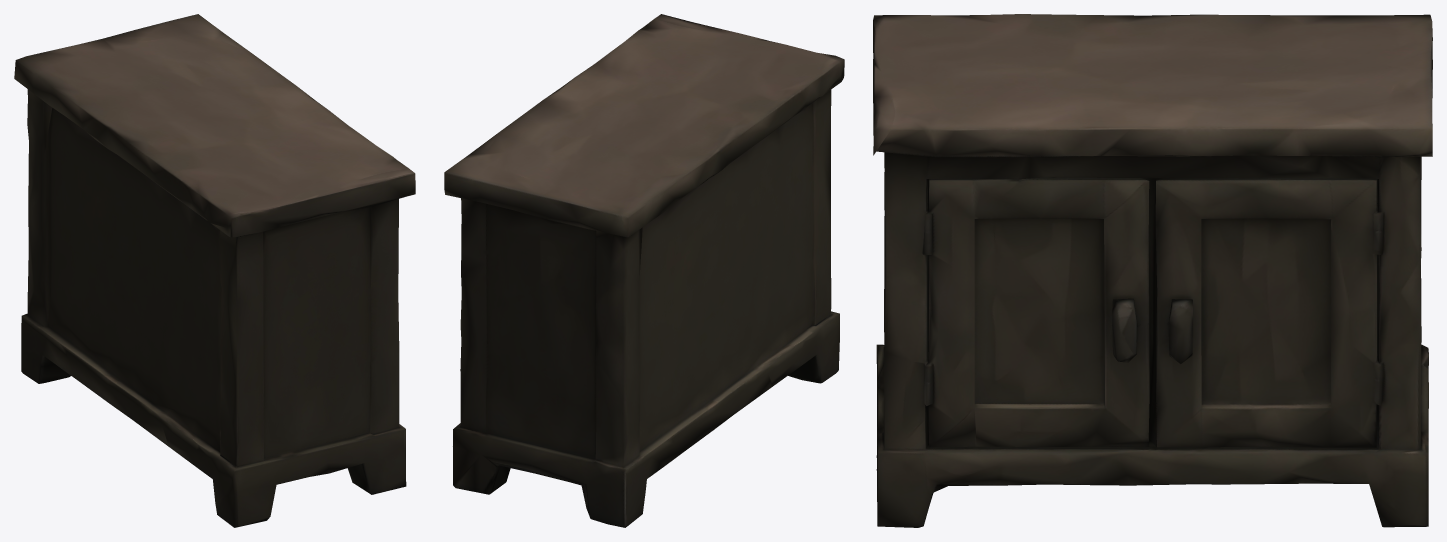
File: wooden_cabinet_small.glb
The picture shows the model from 3 angles, left to right: view 1: azimuth 30°, elevation 25°; view 2: azimuth 150°, elevation 25°; view 3: azimuth 270°, elevation 25°; orthographic projection. The views are drawn at different scales.
Parts seen in each view (by area): view 1: tripo_node_ceaee5fb-e24a-4fda-a32a-5de418f4119b; view 2: tripo_node_ceaee5fb-e24a-4fda-a32a-5de418f4119b; view 3: tripo_node_ceaee5fb-e24a-4fda-a32a-5de418f4119b.
Part boxes in pixels (x1,y1,x2,y2): tripo_node_ceaee5fb-e24a-4fda-a32a-5de418f4119b: (14,14,415,527); tripo_node_ceaee5fb-e24a-4fda-a32a-5de418f4119b: (444,14,844,527); tripo_node_ceaee5fb-e24a-4fda-a32a-5de418f4119b: (873,14,1432,527).
Bounding box in the file's own units: 0.5016 × 0.7977 × 1.
1 material, 1 textured.
